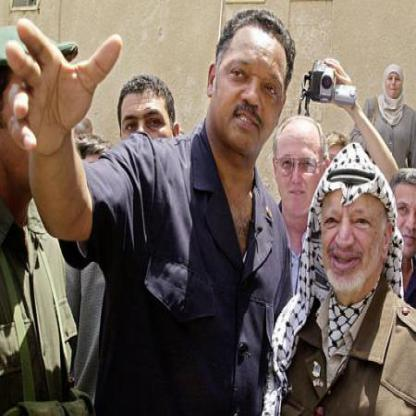face: (217, 14, 290, 155), (318, 157, 388, 296), (121, 79, 174, 182), (274, 117, 324, 216), (386, 67, 405, 101)
